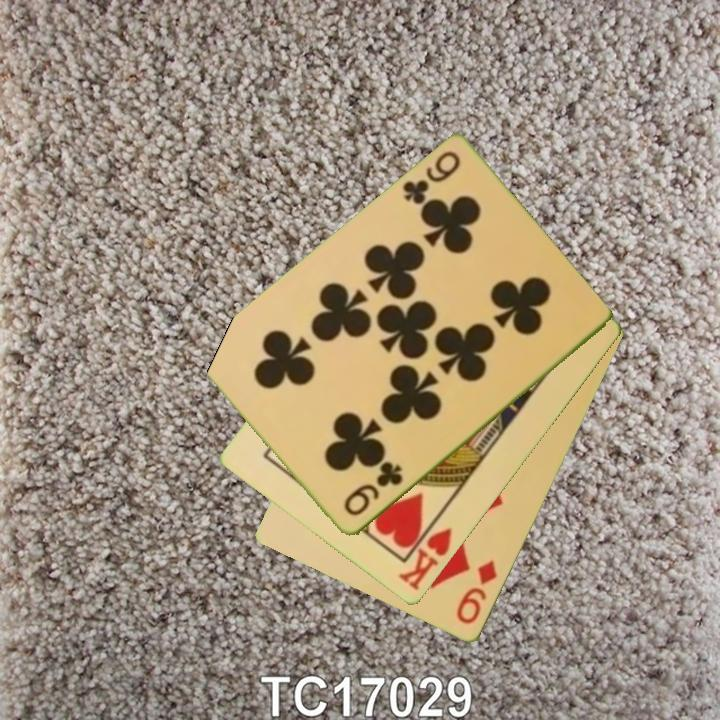9c: (398, 147, 464, 209), (340, 459, 406, 520)
9d: (453, 556, 501, 628)
Kh: (395, 512, 455, 595)
